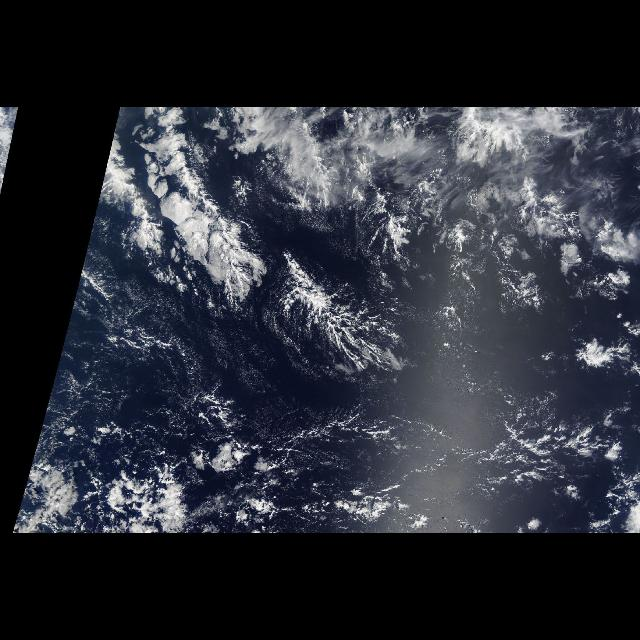Fish: (267, 240, 415, 382)
Gravel: (56, 300, 274, 528)
